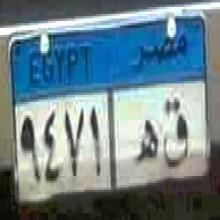1: (88, 101, 100, 182)
4: (21, 112, 39, 183), (44, 109, 58, 188)
7: (62, 97, 84, 180)
haa: (137, 111, 161, 168)
qaaf: (162, 91, 189, 177)
